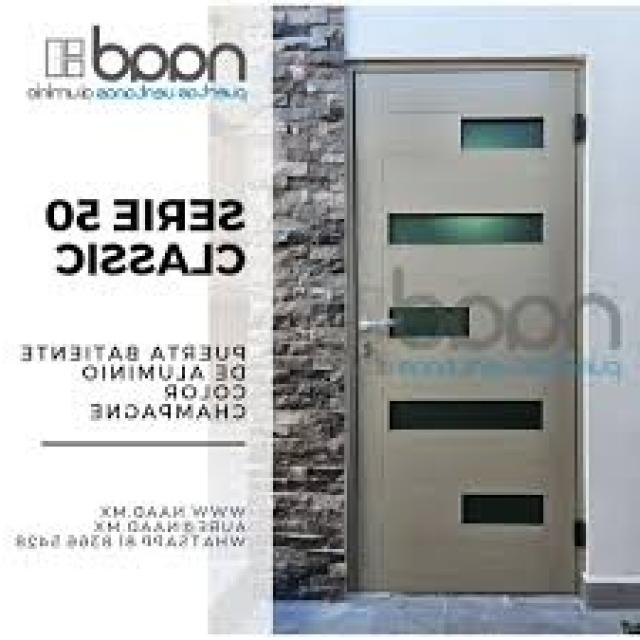door: (350, 60, 583, 594)
